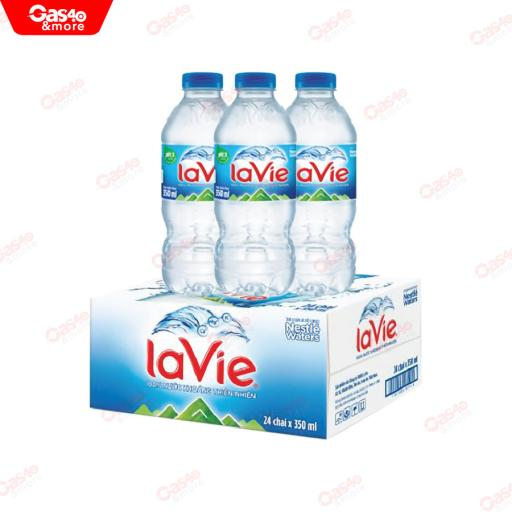bottle: (214, 73, 295, 295), (287, 73, 356, 295), (162, 73, 225, 294)
